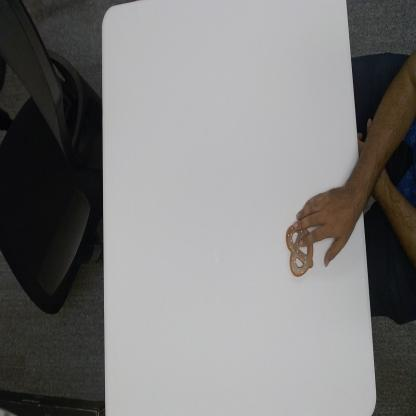Hand: (293, 188, 361, 268)
Pretzel: (286, 218, 314, 277)
